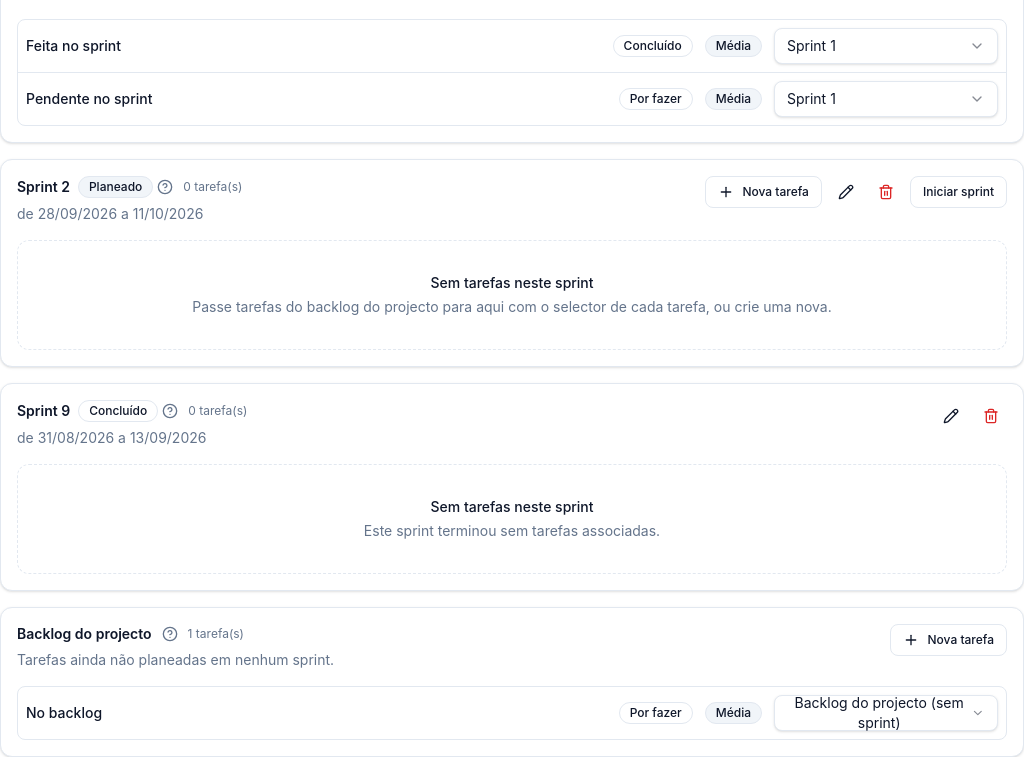
Scenario: BacklogView › não propõe sprints concluídos como destino de uma tarefa
(page scrolled)
Click the dropdown named "Sprint da tarefa \"No backlog\"". click: (886, 713)
box: left=774, top=695, right=998, bottom=731
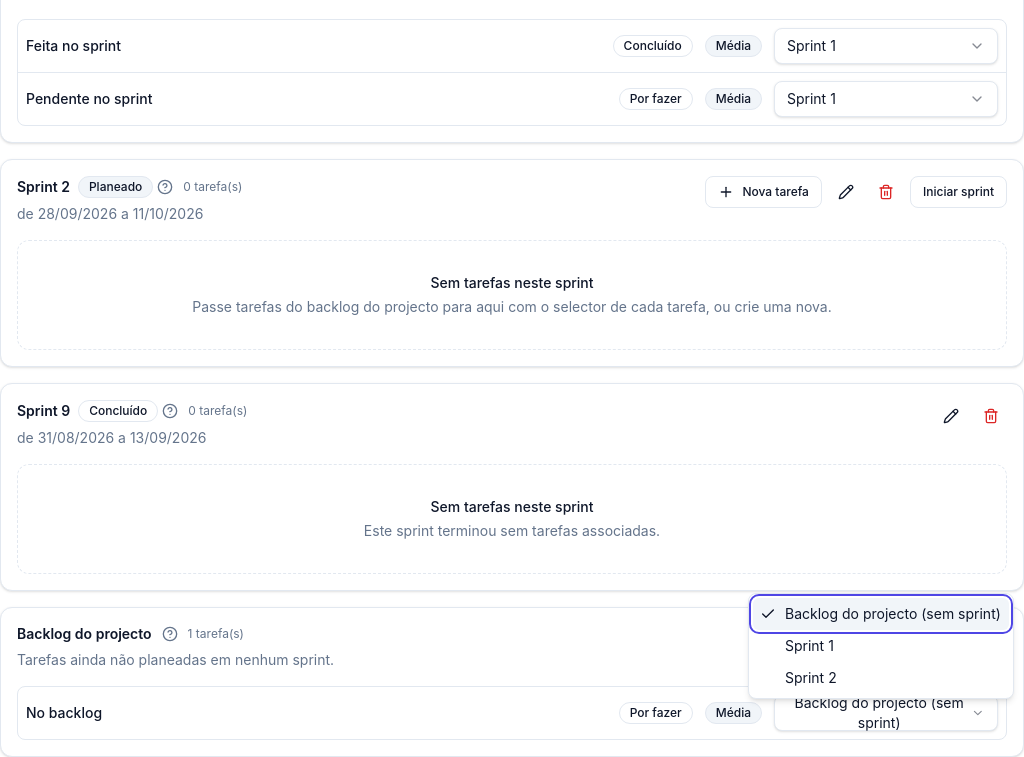
Expected: the options read "Backlog do projecto (sem sprint)", "Sprint 1", "Sprint 2", in this order, left=753, top=598, right=1009, bottom=630; left=785, top=637, right=834, bottom=654; left=785, top=669, right=837, bottom=686
